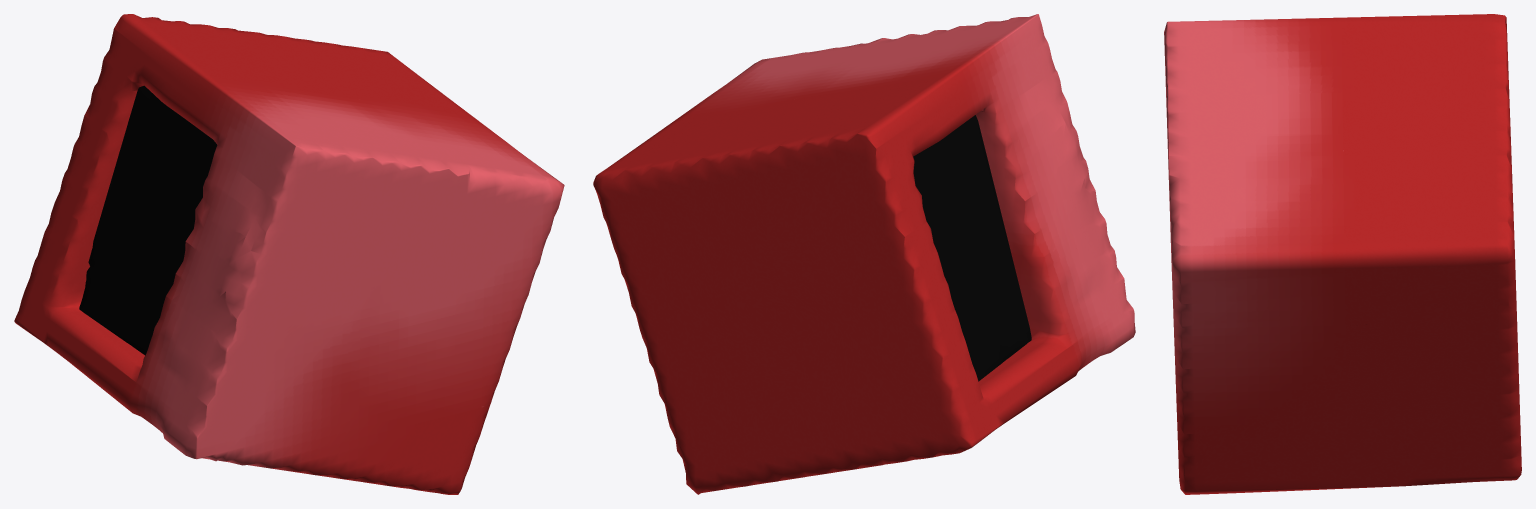
The model's file is alarm button.obj.
3 views of the same model, side by side, from view 1: azimuth 30°, elevation 25°; view 2: azimuth 150°, elevation 25°; view 3: azimuth 270°, elevation 25° (orthographic). The views are drawn at different scales.
Parts seen in each view (by area): view 1: Layer_1, Layer_2; view 2: Layer_1, Layer_2; view 3: Layer_1.
Part boxes in pixels (x1,y1,x2,y2): Layer_1: (14,14,564,494); Layer_2: (79,85,217,355); Layer_1: (593,14,1135,494); Layer_2: (913,115,1031,381); Layer_1: (1164,14,1521,494).
Bounding box in the file's own units: 24.44 × 24.66 × 20.08.
2 materials, 2 textured.
